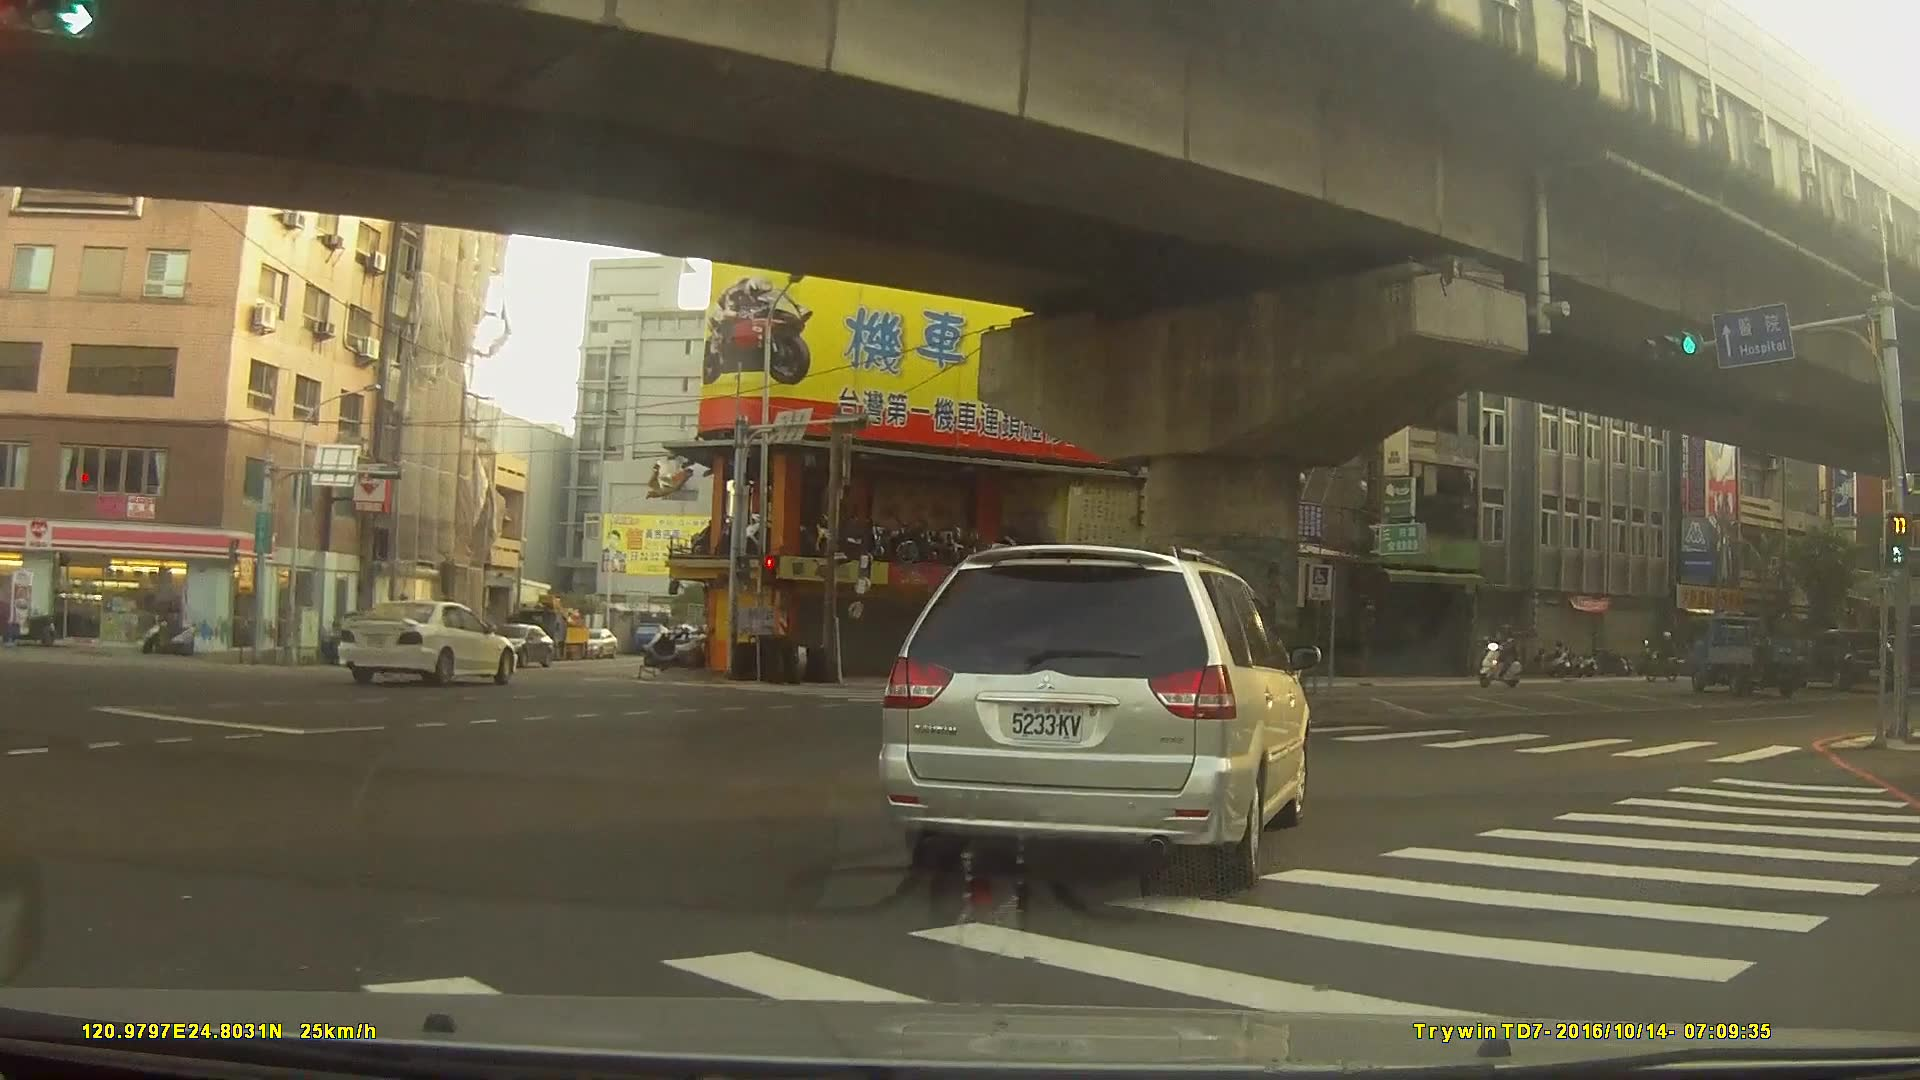rider: (1481, 630, 1527, 690), (1643, 630, 1687, 684)
vehicle: (878, 542, 1313, 888), (338, 598, 519, 684), (1685, 610, 1813, 695), (1793, 625, 1891, 690), (480, 620, 554, 666), (577, 626, 617, 657)
